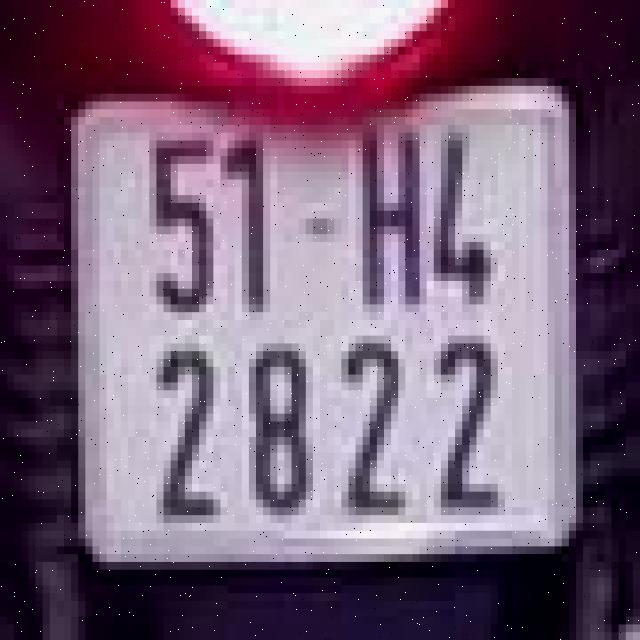1: (214, 121, 292, 332)
2: (146, 339, 231, 527), (438, 328, 516, 523), (338, 324, 409, 527)
4: (427, 125, 505, 320)
5: (135, 132, 221, 328)
8: (249, 336, 327, 515)
H: (348, 125, 434, 320)
